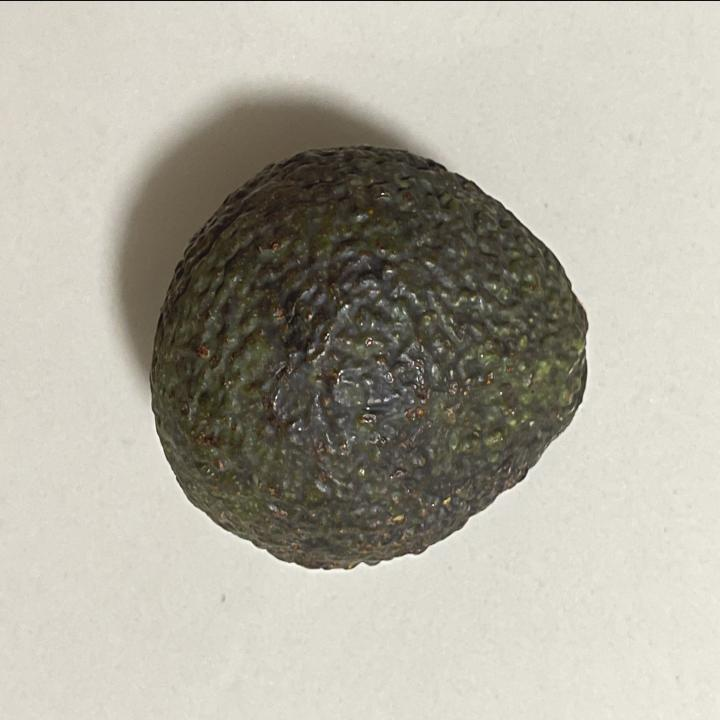Level1: (142, 122, 596, 588)
